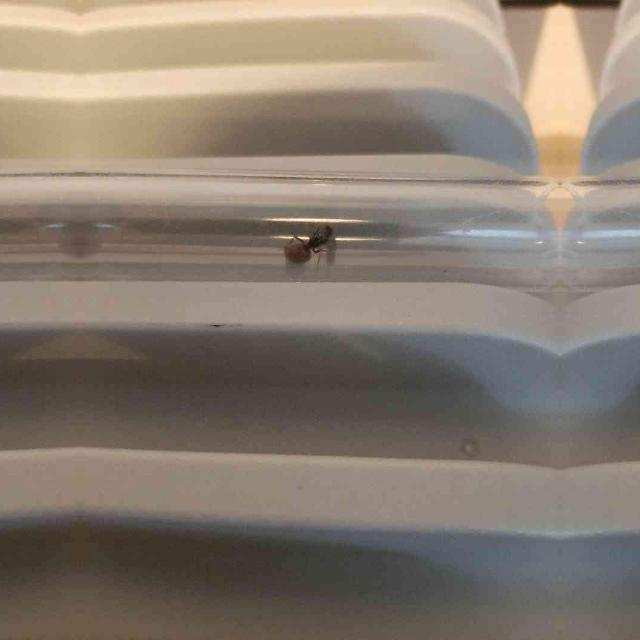Lasius: (281, 218, 335, 268)
